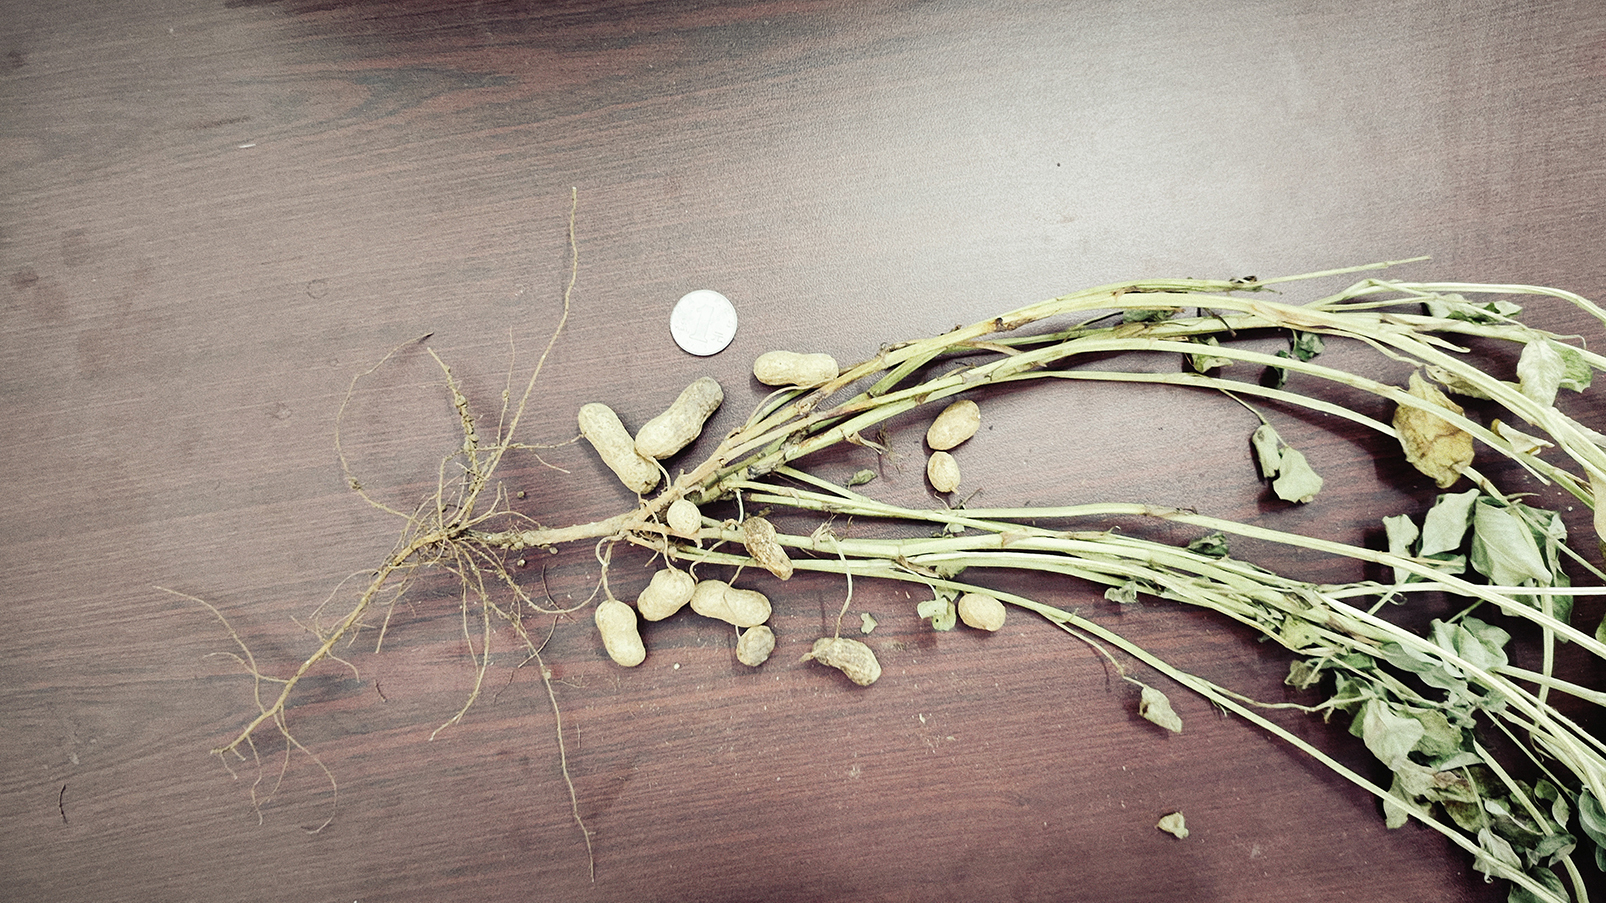h: (636, 376, 725, 460), (580, 402, 660, 495), (692, 579, 777, 628), (812, 637, 885, 689), (753, 348, 842, 388), (595, 603, 646, 669), (924, 398, 981, 453), (639, 569, 693, 623), (957, 592, 1008, 631), (734, 627, 777, 668), (925, 452, 959, 493), (668, 499, 704, 535)
l: (742, 516, 795, 580)
